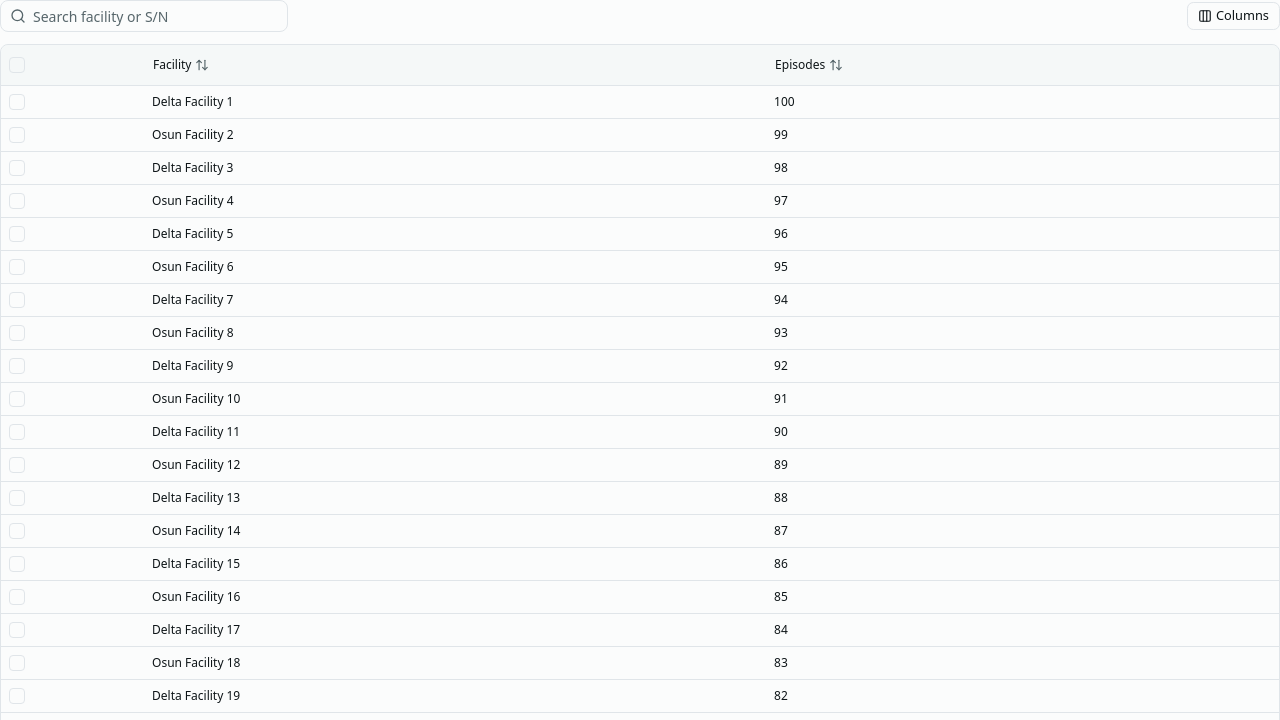
Test: DataTable › can search the facility and a key at once, e.g. the S/N
Type "r17" into the field labelled "Search facility or S/N" at (144, 16), box [0, 0, 288, 32]
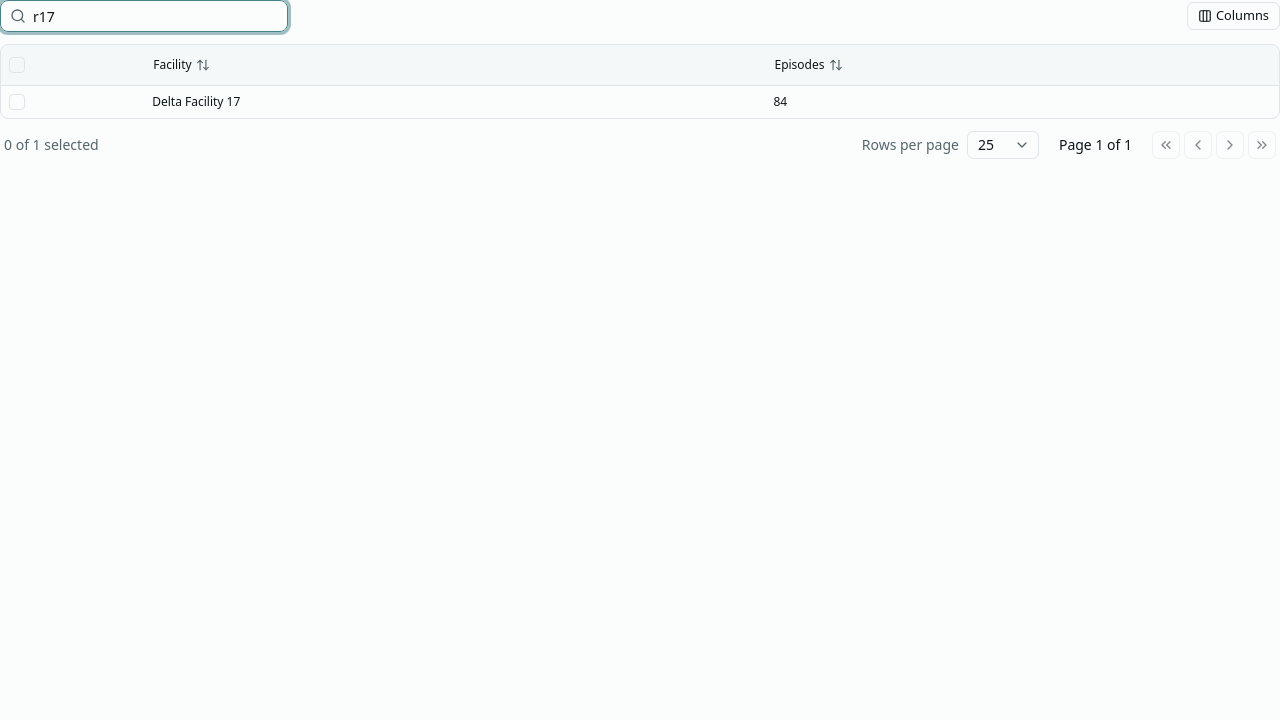
Expected: the row "Delta Facility 17 84" is shown, [1, 85, 1279, 118]
Replace the text in the field named "Search facility or S/N" with "osun" at (144, 16), box [0, 0, 288, 32]
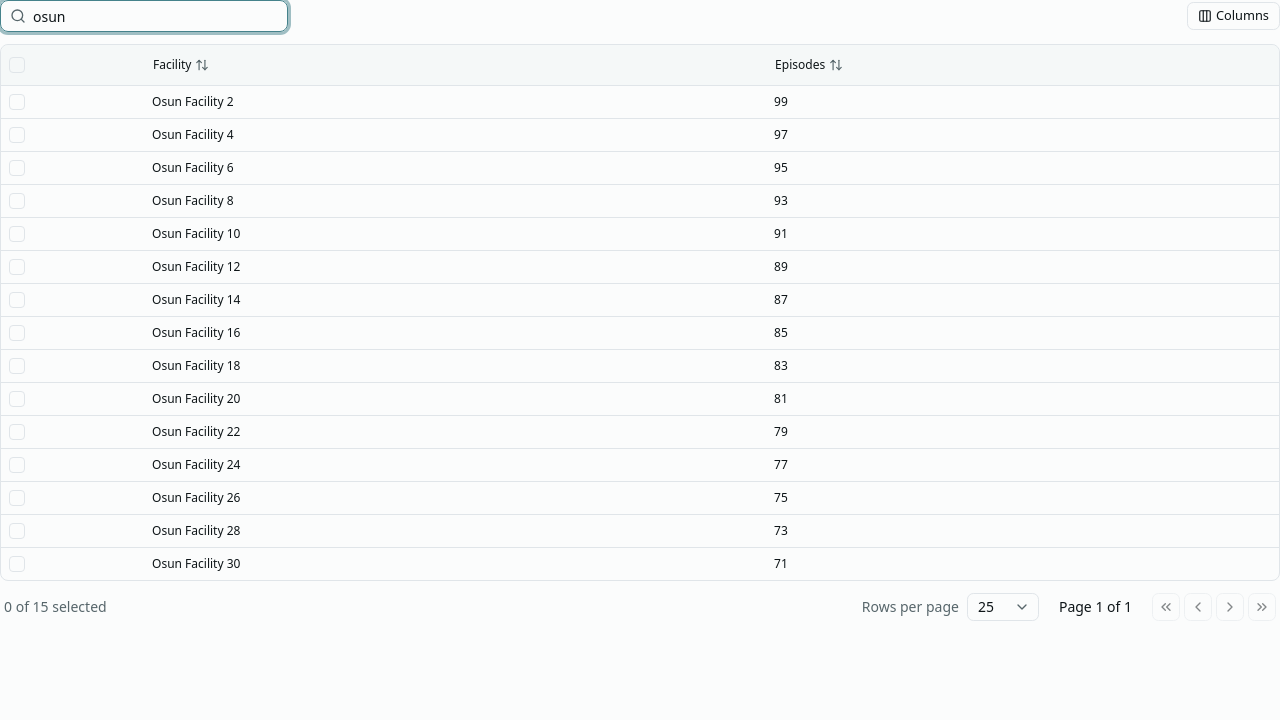
Result: the text "Page 1 of 1" is shown at [1059, 596, 1132, 616]
Replace the text in the field named "Search facility or S/N" with "nowhere" at (144, 16), box [0, 0, 288, 32]
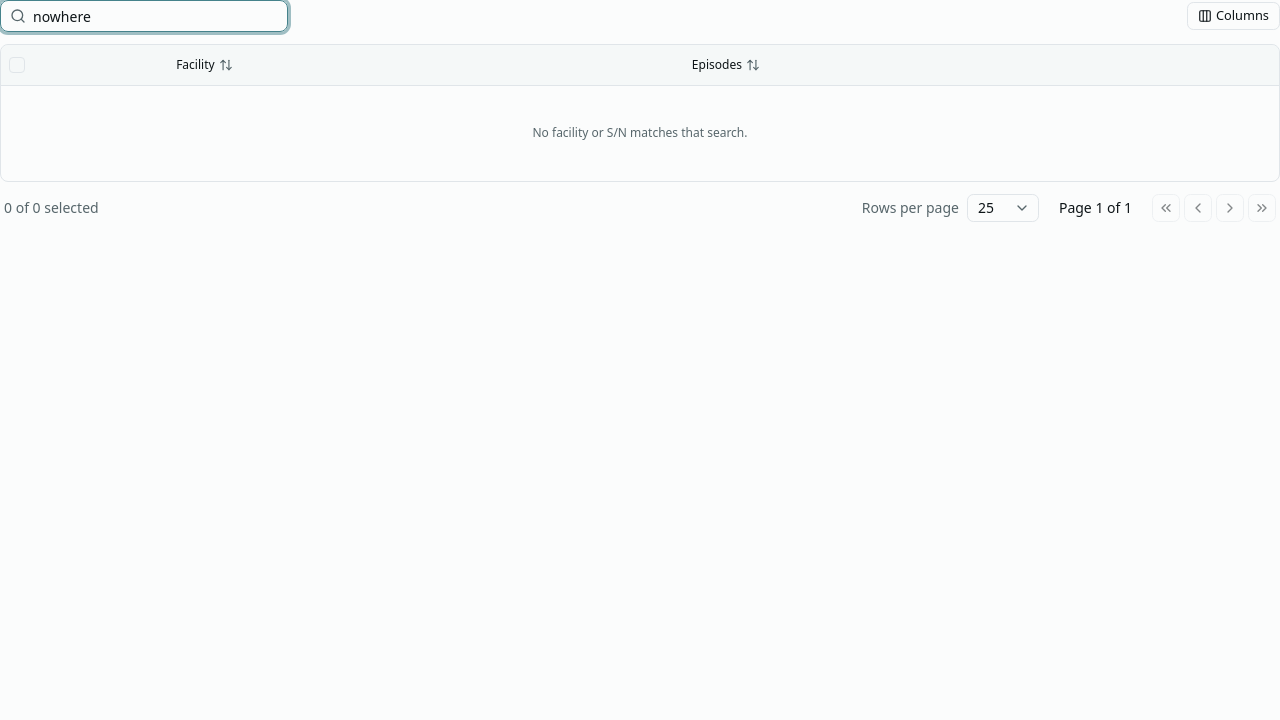
Result: the text "No facility or S/N matches that search." is shown at [1, 85, 1279, 181]
